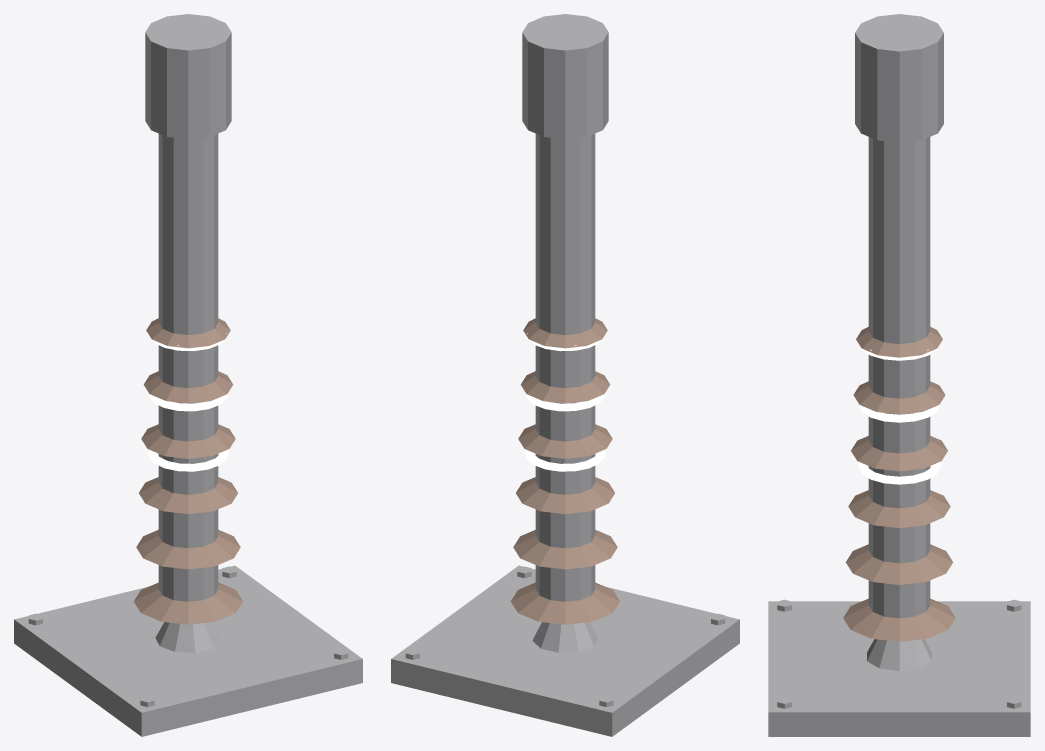
The model's file is drill_bit_epic.glb.
3 views of the same model, side by side, from view 1: azimuth 30°, elevation 25°; view 2: azimuth 150°, elevation 25°; view 3: azimuth 270°, elevation 25° (orthographic). The views are drawn at different scales.
Parts seen in each view (by area): view 1: drill_bit; view 2: drill_bit; view 3: drill_bit.
Boxes of the visible parts, <box> form: drill_bit: <box>14,14,362,736</box>; drill_bit: <box>391,14,739,736</box>; drill_bit: <box>768,14,1030,736</box>.
Size of the model in its own units: 1.54 by 4.19 by 1.54.
